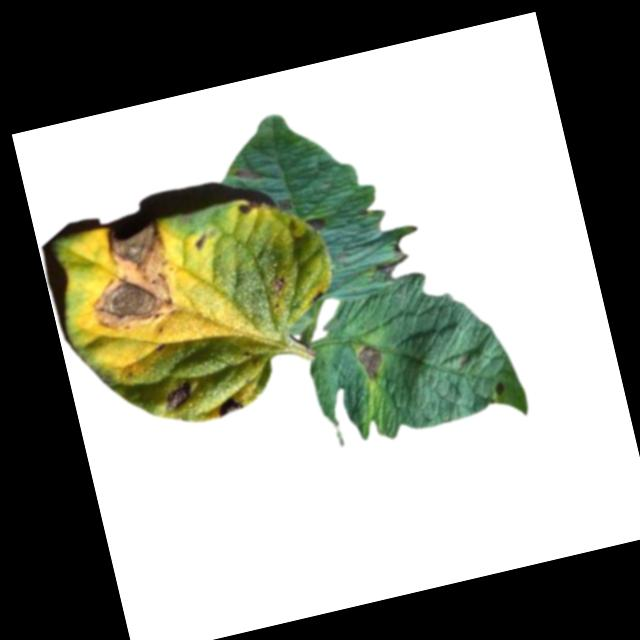Early_blight: (75, 218, 183, 339), (354, 340, 385, 382), (162, 379, 196, 412), (214, 391, 246, 421), (236, 198, 262, 217), (270, 275, 290, 295), (305, 215, 326, 233), (277, 198, 294, 214), (492, 380, 506, 397)
